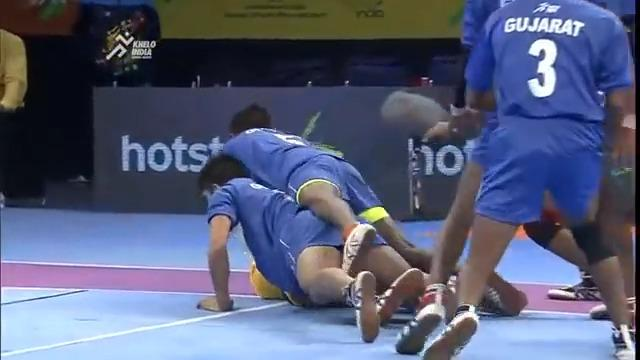Player: (401, 0, 635, 358), (195, 151, 427, 340)
referee: (379, 88, 467, 219), (0, 26, 28, 203)
